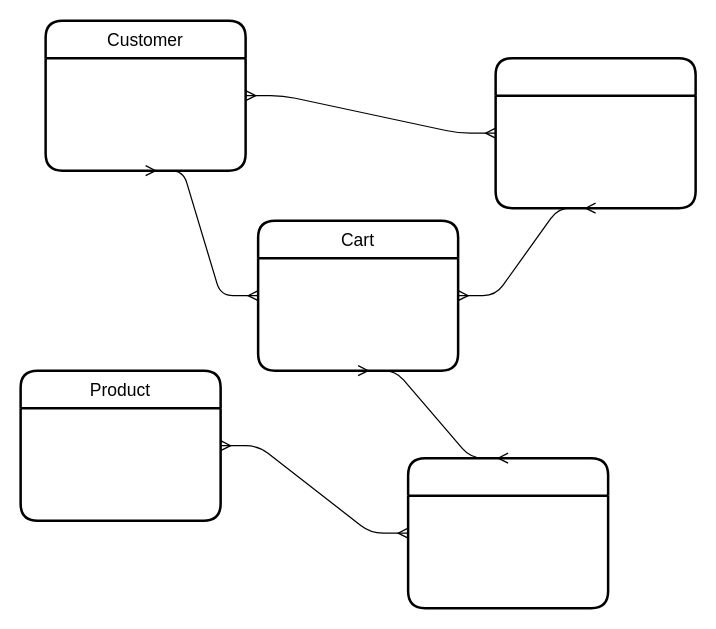
The diagram is 716 pixels wide and 629 high, and some of its shapes have lost their labels. Here are the shapes that lost their labels. From the top down, the box of each, then its label:
(494, 56, 696, 209): ShippingAddress
(406, 456, 609, 609): CartItems
